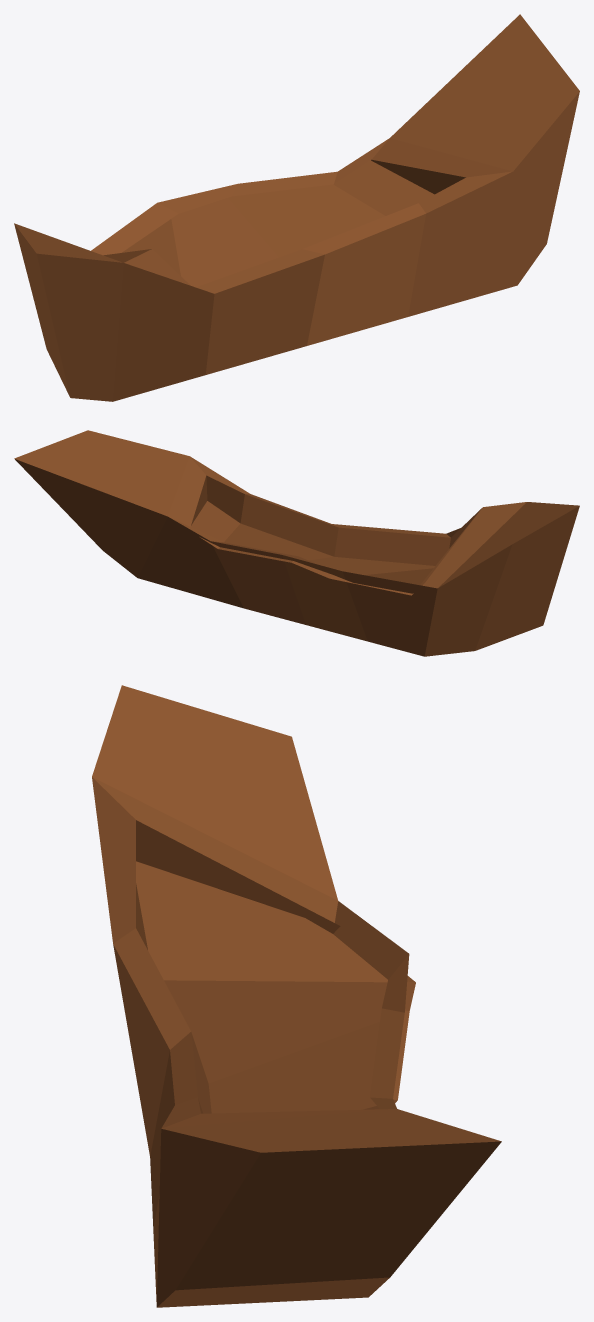
The model's file is barco.glb.
3 views of the same model, one above another, from view 1: azimuth 30°, elevation 25°; view 2: azimuth 150°, elevation 25°; view 3: azimuth 270°, elevation 25° (orthographic). The views are drawn at different scales.
Visible parts, largest first — view 1: Cube; view 2: Cube; view 3: Cube.
Boxes of the visible parts, bbox=[...] form: Cube: bbox=[14, 14, 579, 401]; Cube: bbox=[14, 430, 579, 656]; Cube: bbox=[92, 685, 501, 1307].
Size of the model in its own units: 6.75 by 1.93 by 2.54.
